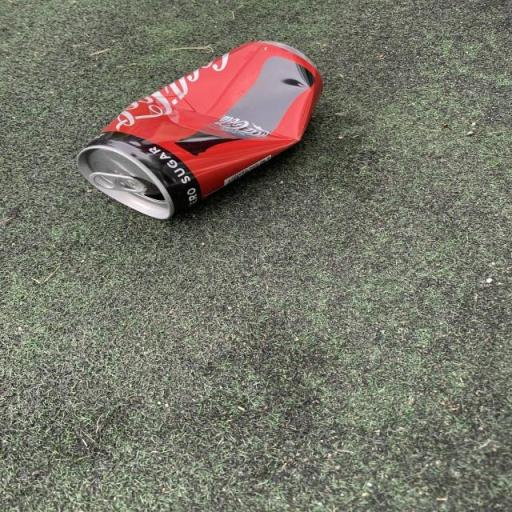metal: (58, 19, 358, 226)
